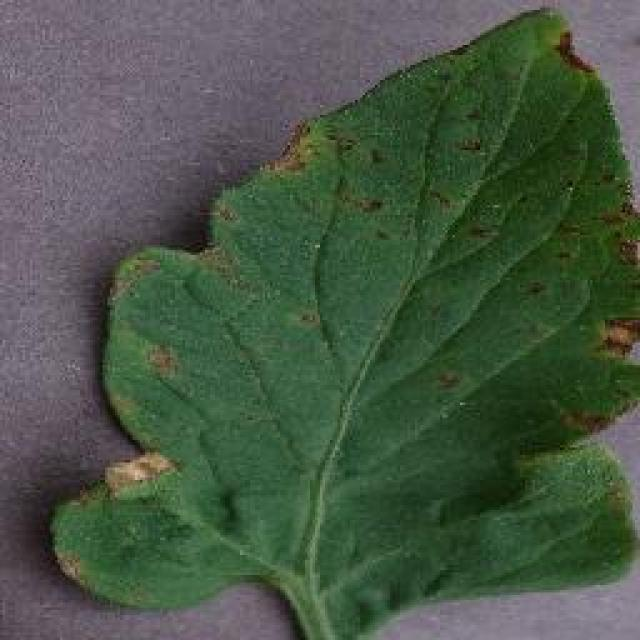Tom_Bacterial_spot: (266, 100, 596, 294), (590, 160, 639, 431), (91, 428, 198, 504)
